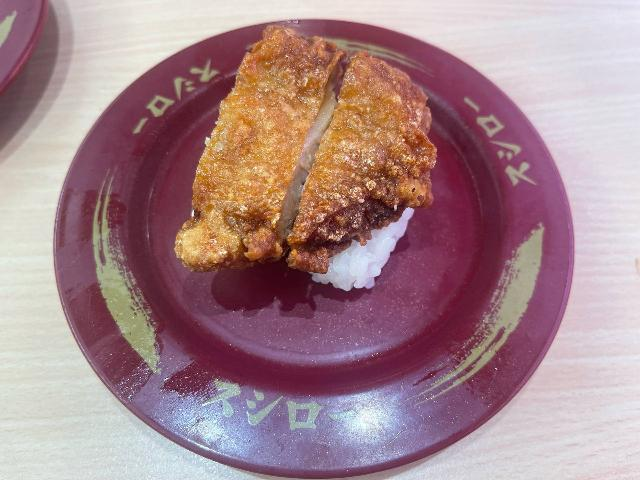janred: (97, 22, 569, 447), (0, 0, 65, 71)
